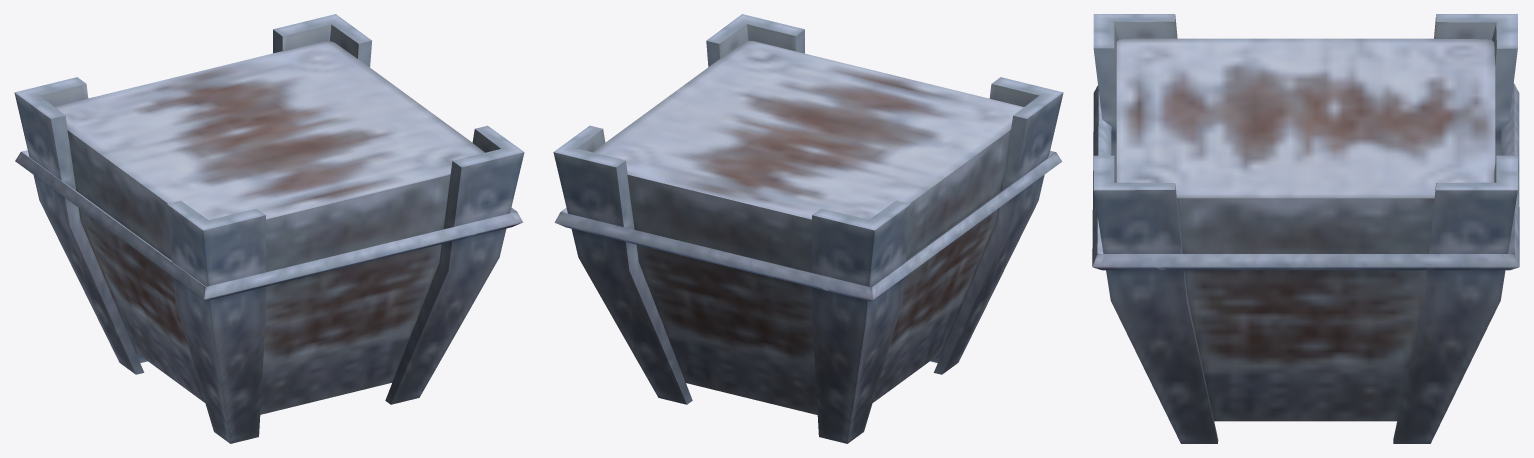
File: rzjd_xiangzi_01.FBX
3 renders of one model, left to right at view 1: azimuth 30°, elevation 25°; view 2: azimuth 150°, elevation 25°; view 3: azimuth 270°, elevation 25°, orthographic. The views are drawn at different scales.
Parts seen in each view (by area): view 1: rzjd_xiangzi_01; view 2: rzjd_xiangzi_01; view 3: rzjd_xiangzi_01.
Boxes of the visible parts, box(x1,y1,x2,y2) form: rzjd_xiangzi_01: box(14, 14, 524, 443); rzjd_xiangzi_01: box(553, 14, 1063, 443); rzjd_xiangzi_01: box(1092, 14, 1519, 443).
Bounding box in the file's own units: 118 × 90.77 × 121.
